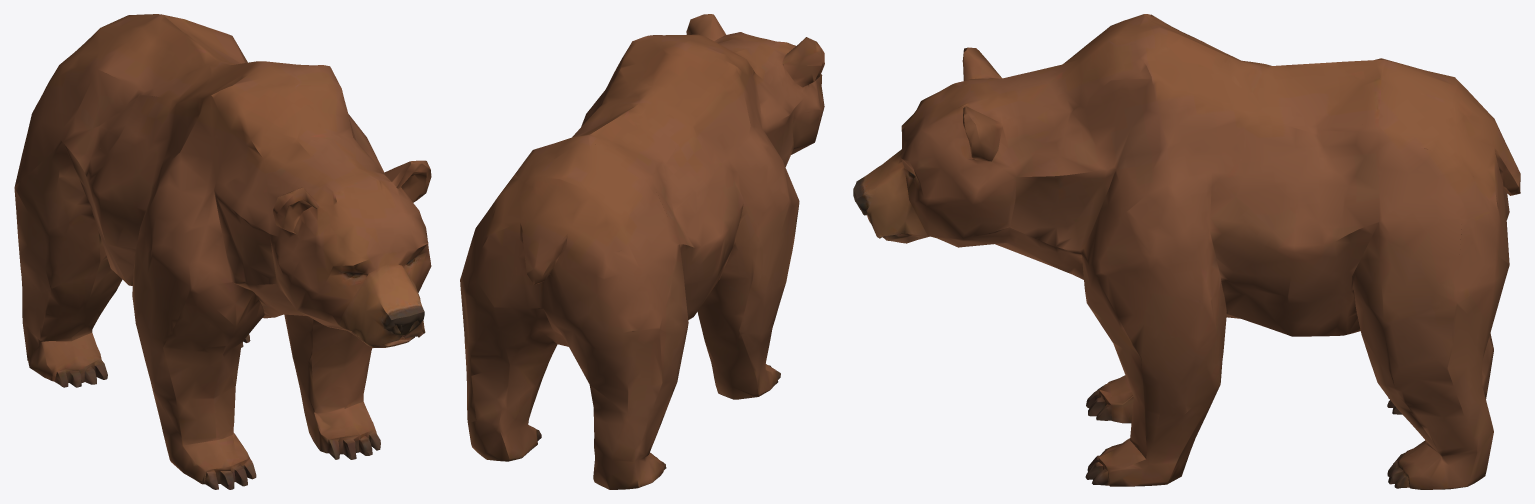
The model's file is bear_brown_idle.glb.
3 views of the same model, side by side, from view 1: azimuth 30°, elevation 25°; view 2: azimuth 150°, elevation 25°; view 3: azimuth 270°, elevation 25° (orthographic). The views are drawn at different scales.
Visible parts, largest first — view 1: tripo_node_fb706fa9-443f-4028-b33a-7c2868ace515; view 2: tripo_node_fb706fa9-443f-4028-b33a-7c2868ace515; view 3: tripo_node_fb706fa9-443f-4028-b33a-7c2868ace515.
Boxes of the visible parts, <box> form: tripo_node_fb706fa9-443f-4028-b33a-7c2868ace515: <box>14,14,431,489</box>; tripo_node_fb706fa9-443f-4028-b33a-7c2868ace515: <box>460,14,824,489</box>; tripo_node_fb706fa9-443f-4028-b33a-7c2868ace515: <box>853,14,1520,489</box>.
Size of the model in its own units: 0.7112 by 1.1 by 1.6.
Materials: 1 (1 with a texture image).
